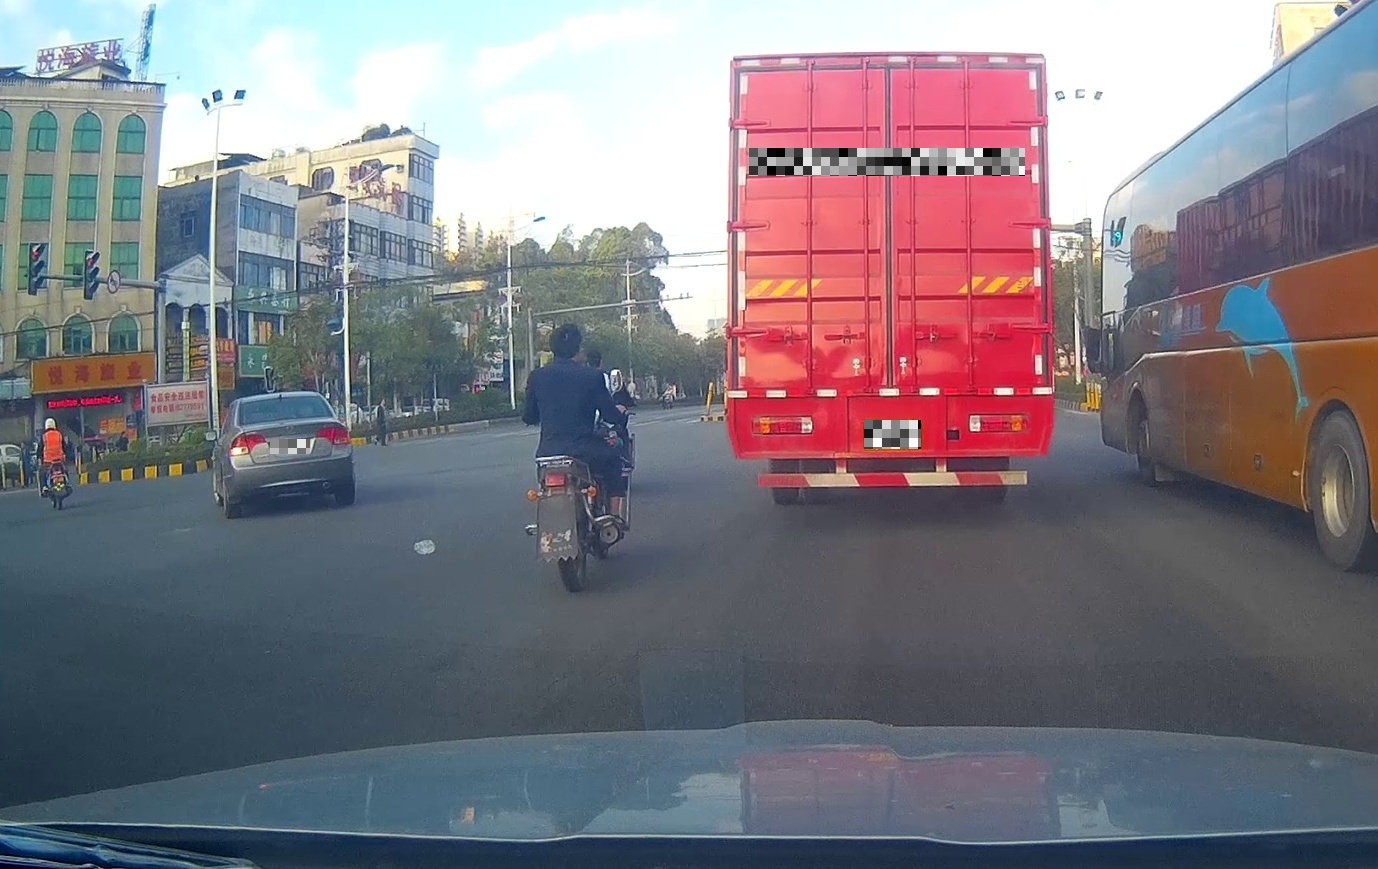L_light: (751, 415, 814, 437), (228, 432, 267, 455)
R_light: (967, 413, 1031, 434), (315, 425, 351, 445)
T_light: (865, 57, 912, 70), (271, 394, 289, 401)
day-left: (223, 390, 356, 519)
day-no: (724, 52, 1055, 505)
plate_1: (270, 439, 310, 454)
plate_2: (749, 148, 1025, 176)
plate_3: (864, 420, 921, 449)
